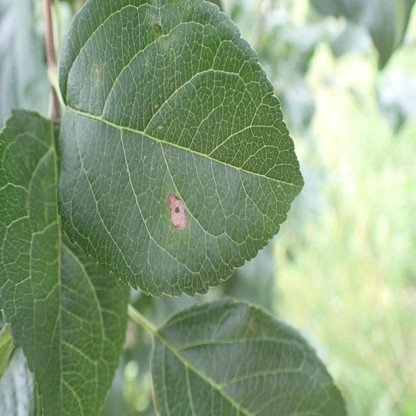frogeye_leaf_spot: (167, 192, 188, 233)
